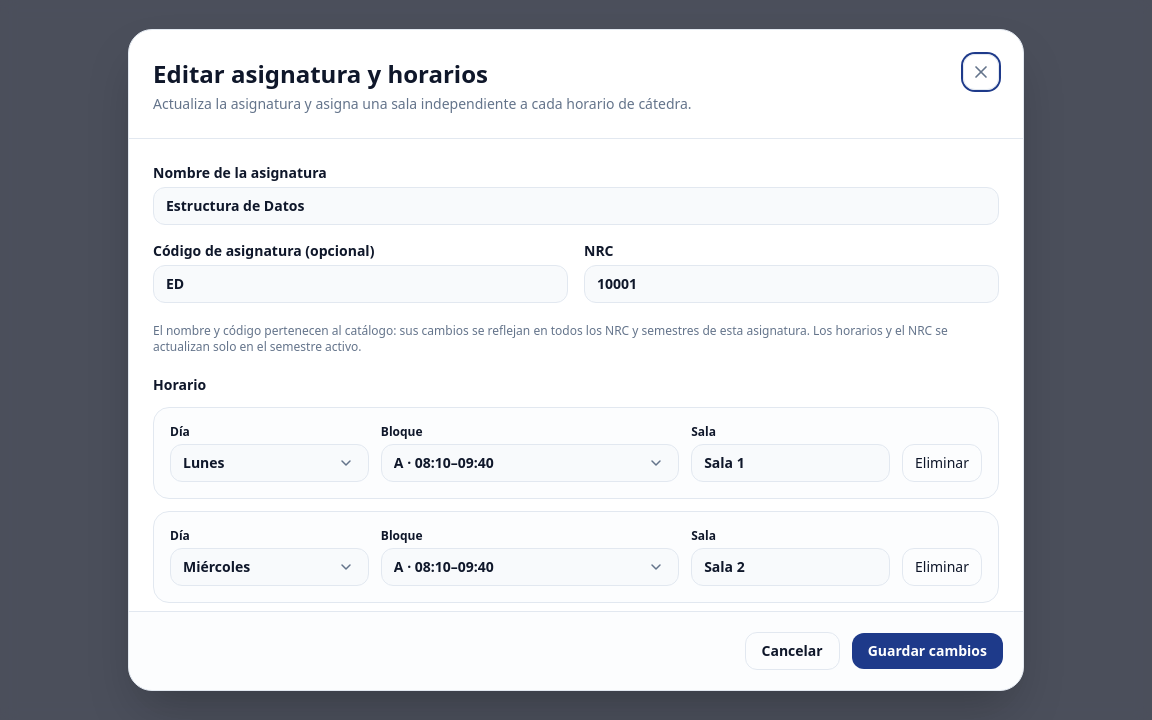
Test case: Editor de asignaturas › conserva el formulario cuando falla el guardado
Step 1. Click the button "Guardar cambios" → (927, 651), box [852, 633, 1003, 669]
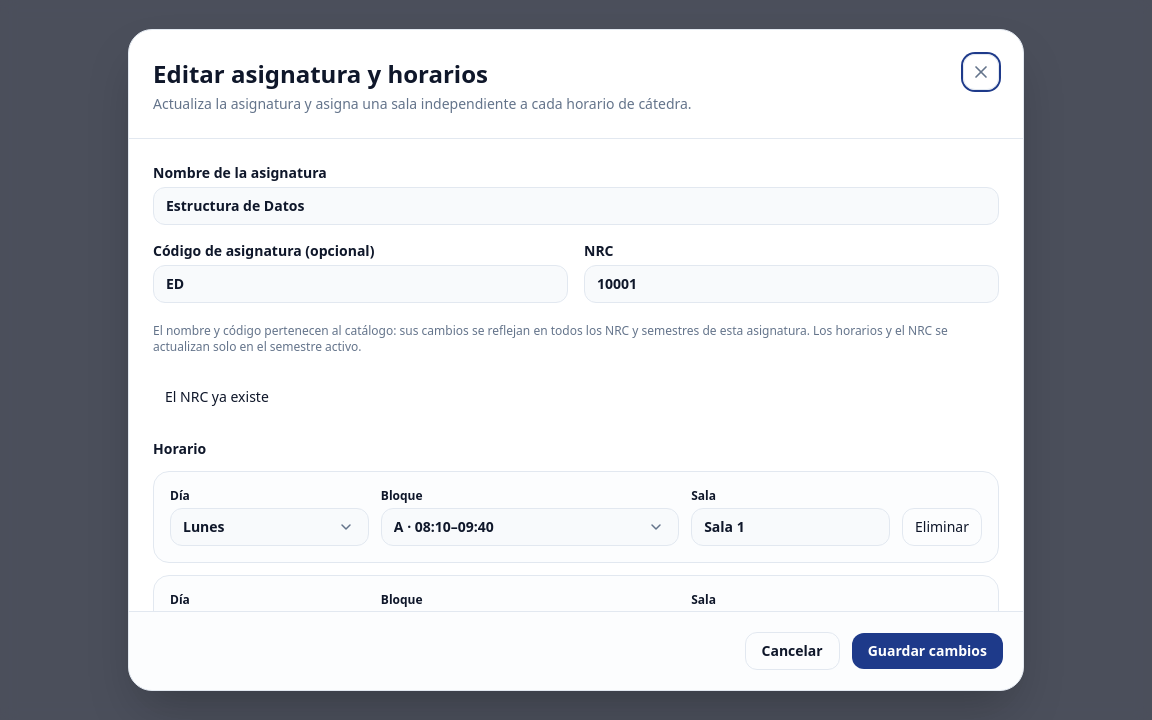
Expected: the field labelled "Sala" holds "Sala 1", [691, 508, 890, 546]
Expected: the message reads "El NRC ya existe", [165, 387, 269, 406]
